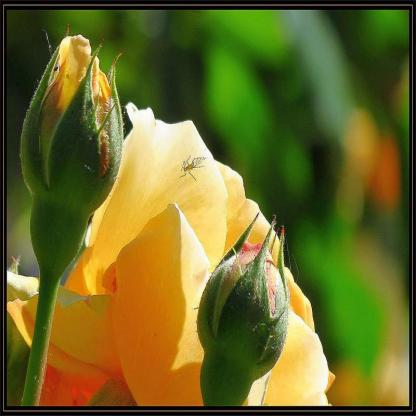aphid: (177, 150, 210, 184)
